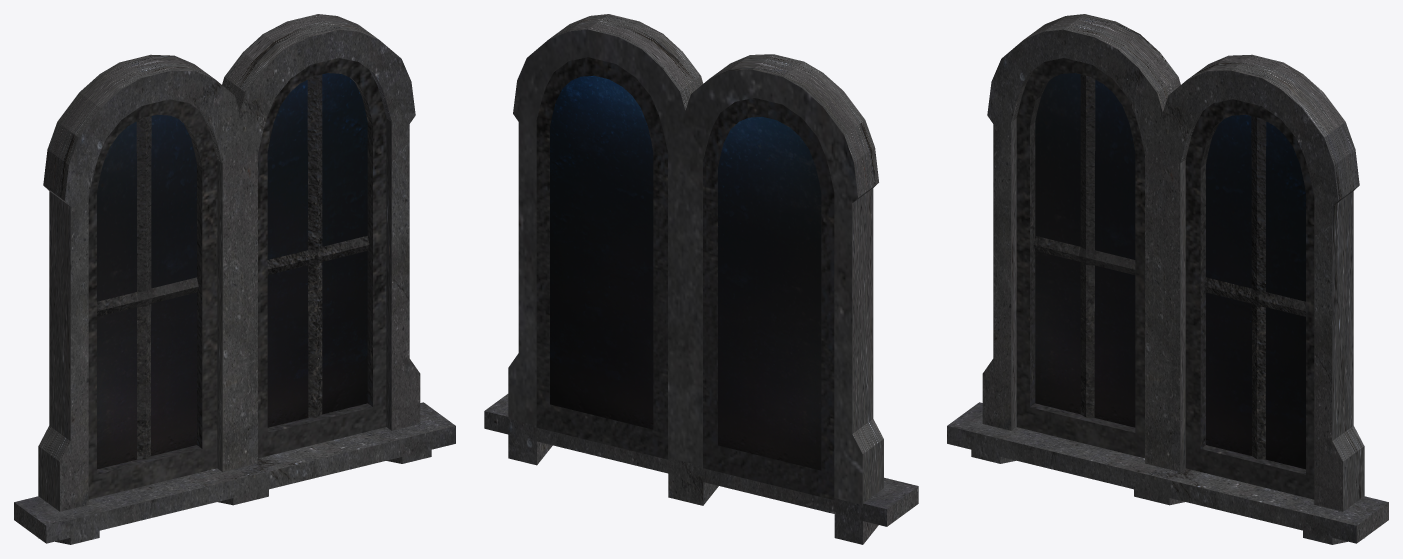
Rendered from window.glb.
3 views of the same model, side by side, from view 1: azimuth 30°, elevation 25°; view 2: azimuth 150°, elevation 25°; view 3: azimuth 330°, elevation 25° (orthographic).
Visible parts, largest first — view 1: Cube.004; view 2: Cube.004; view 3: Cube.004.
Boxes of the visible parts, bbox=[...] form: Cube.004: bbox=[14, 14, 455, 544]; Cube.004: bbox=[484, 14, 918, 544]; Cube.004: bbox=[947, 14, 1388, 544].
Bounding box in the file's own units: 3.3 × 3.51 × 0.4527.
1 material, 1 textured.
